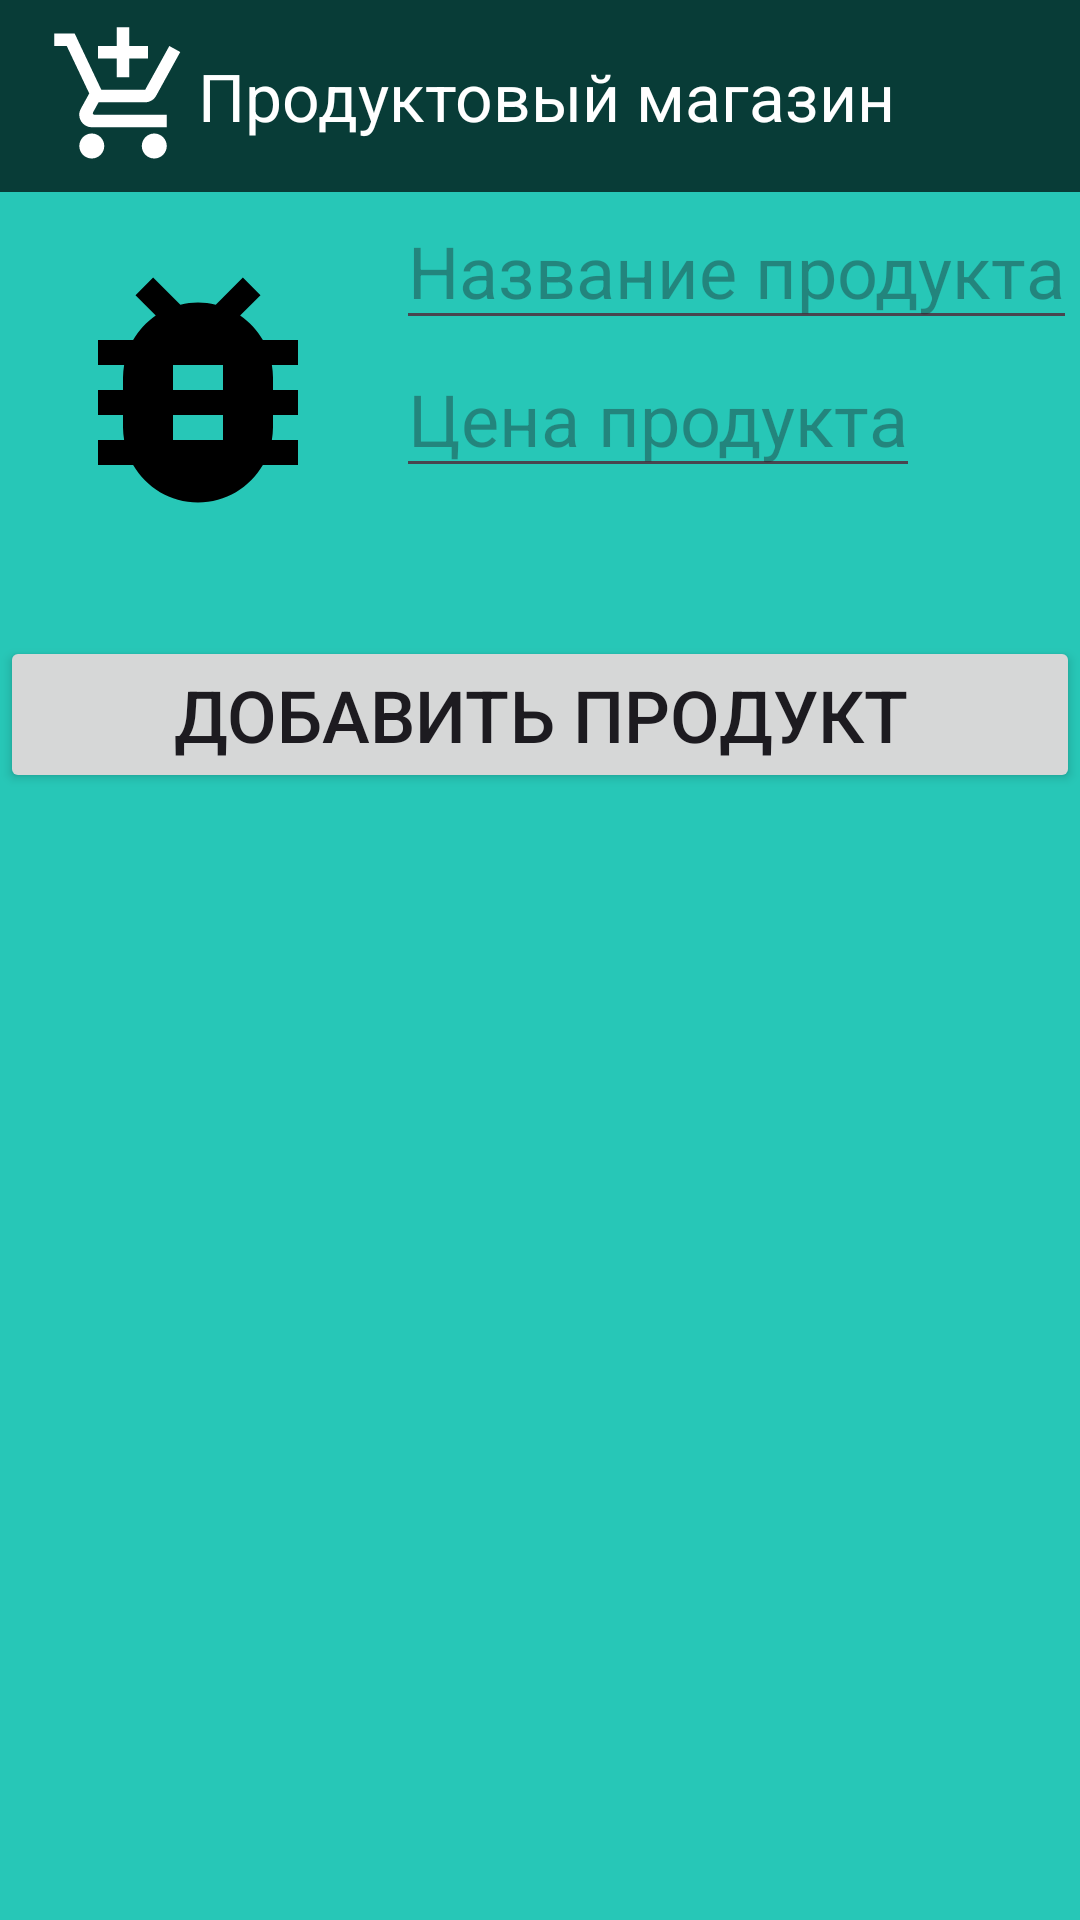

Locate icon controls on the screen. Image size 1080 × 1920, boxes as box(x1, y1, x2, y2).
bug: box(98, 277, 298, 503)
